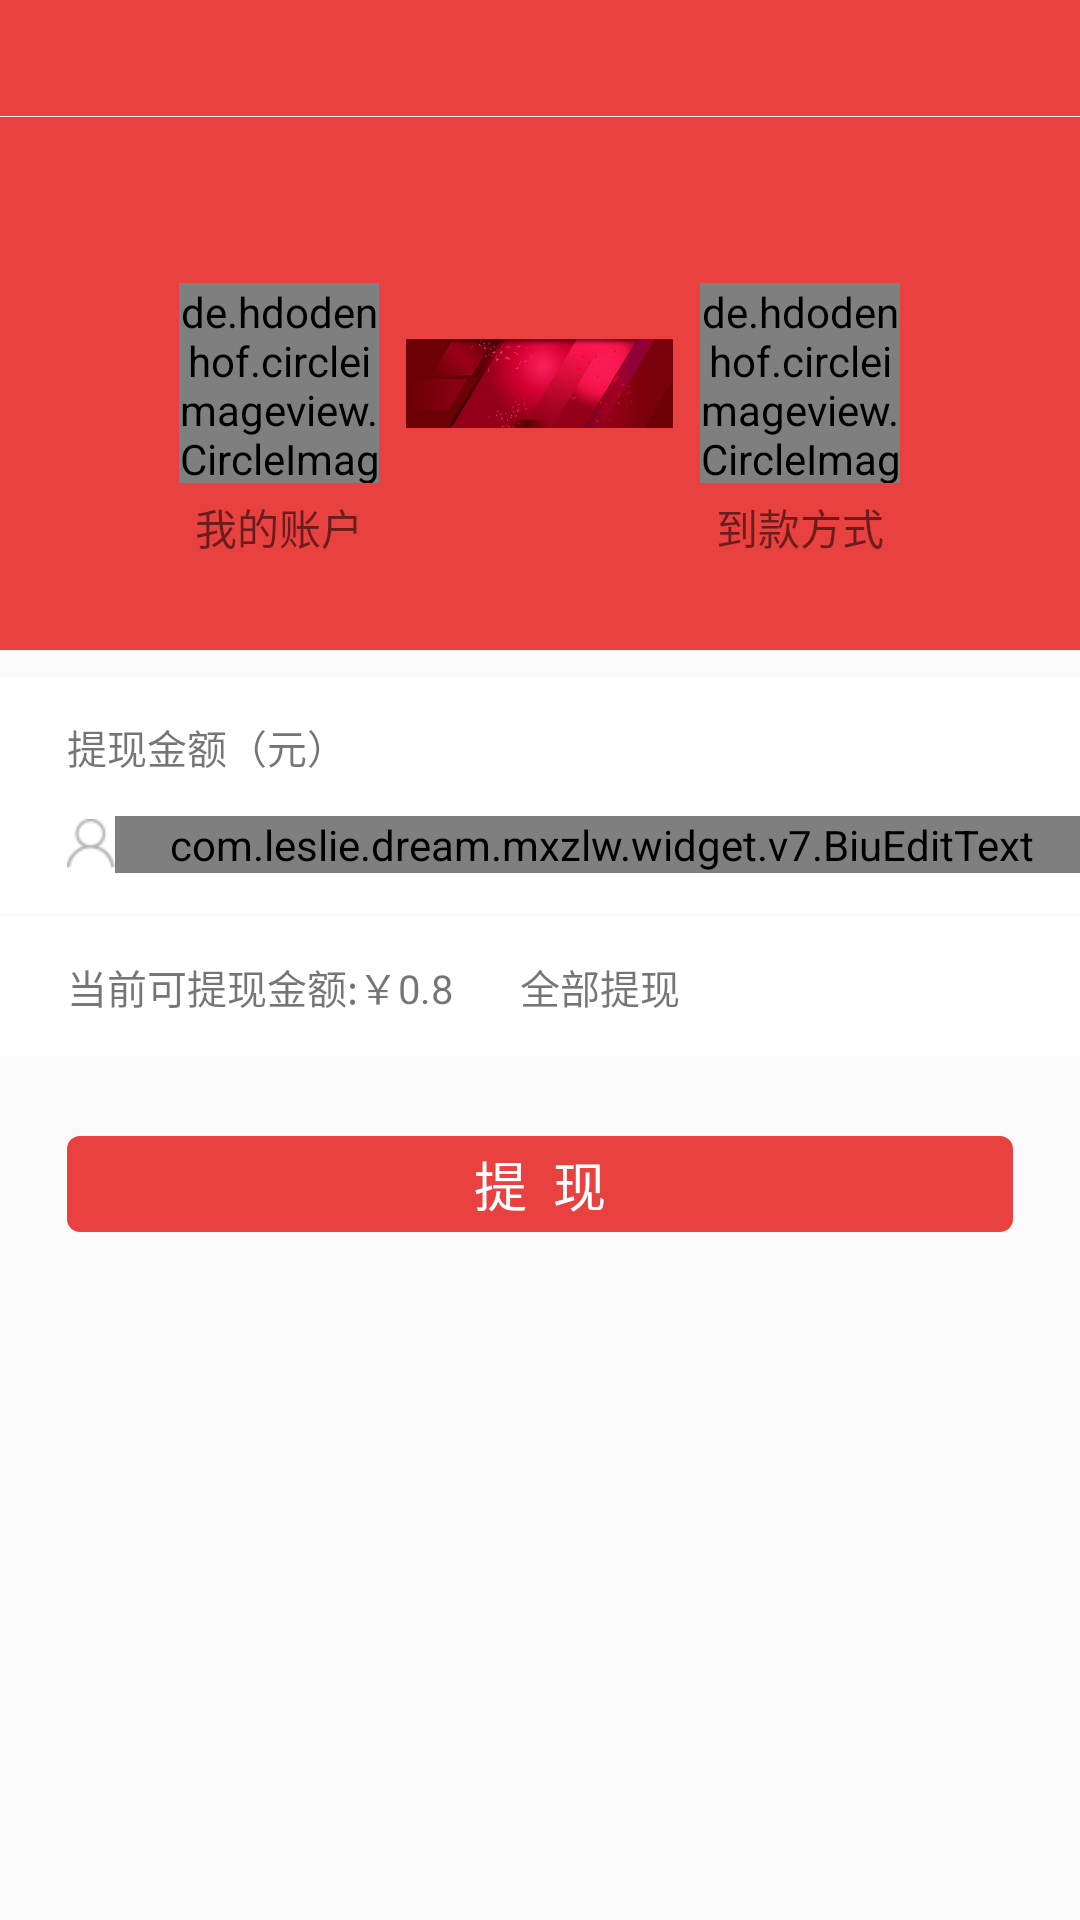

Icon bounding boxes for this 1080x1920 phone screenshot, format (x1, y1, x2, y2):
username: (67, 819, 115, 868)
